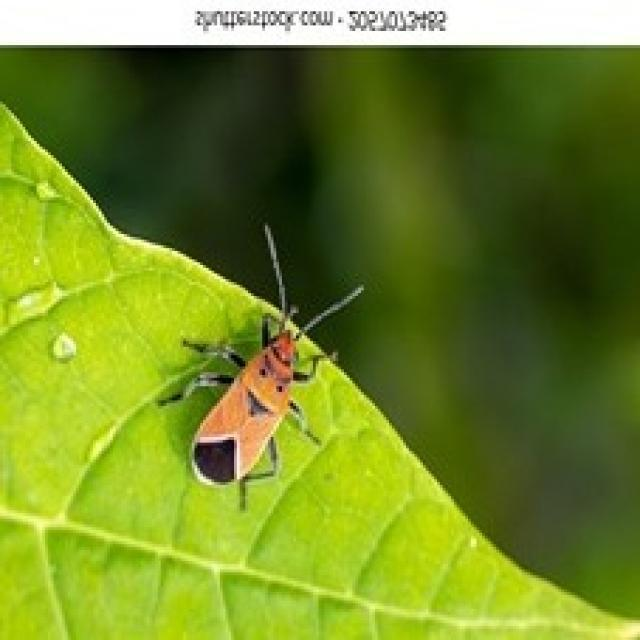Rust: (180, 314, 318, 490)
